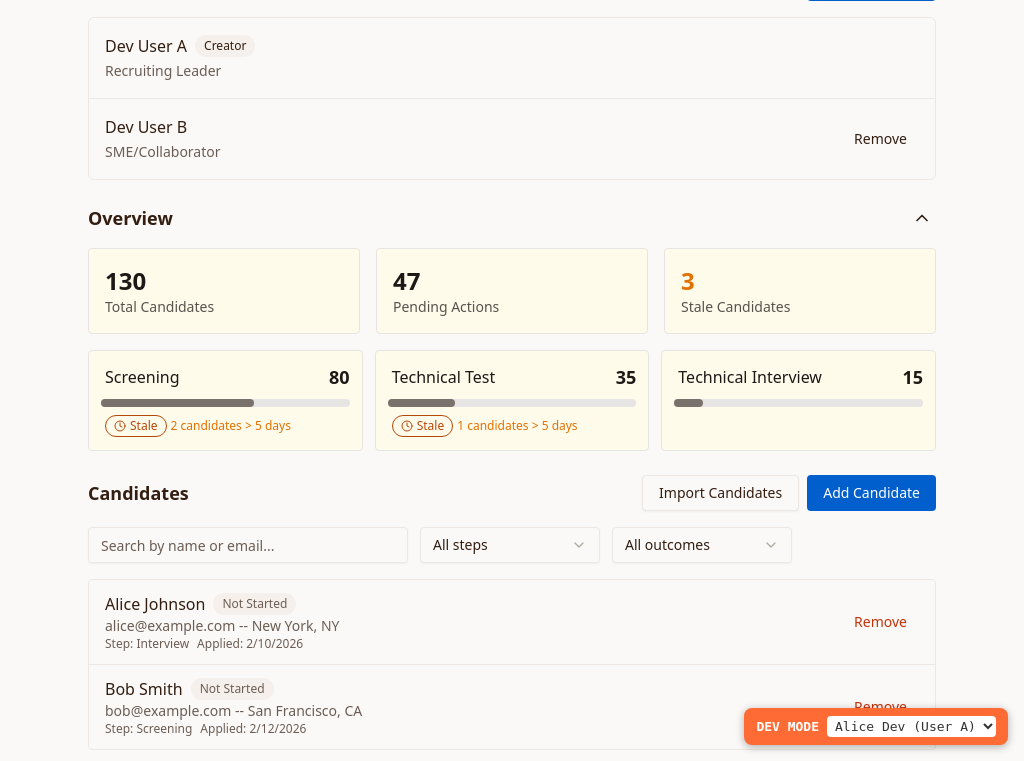
Test: RecruitmentPage › should filter candidate list when step is clicked in overview
(page scrolled)
Expected: the element named "Total Candidates: 130" is shown, [88,248,360,334]
// Click step in overview
Click the button with aria-label "filter by step: screening". click: (142, 377)
box: [101,365,184,389]
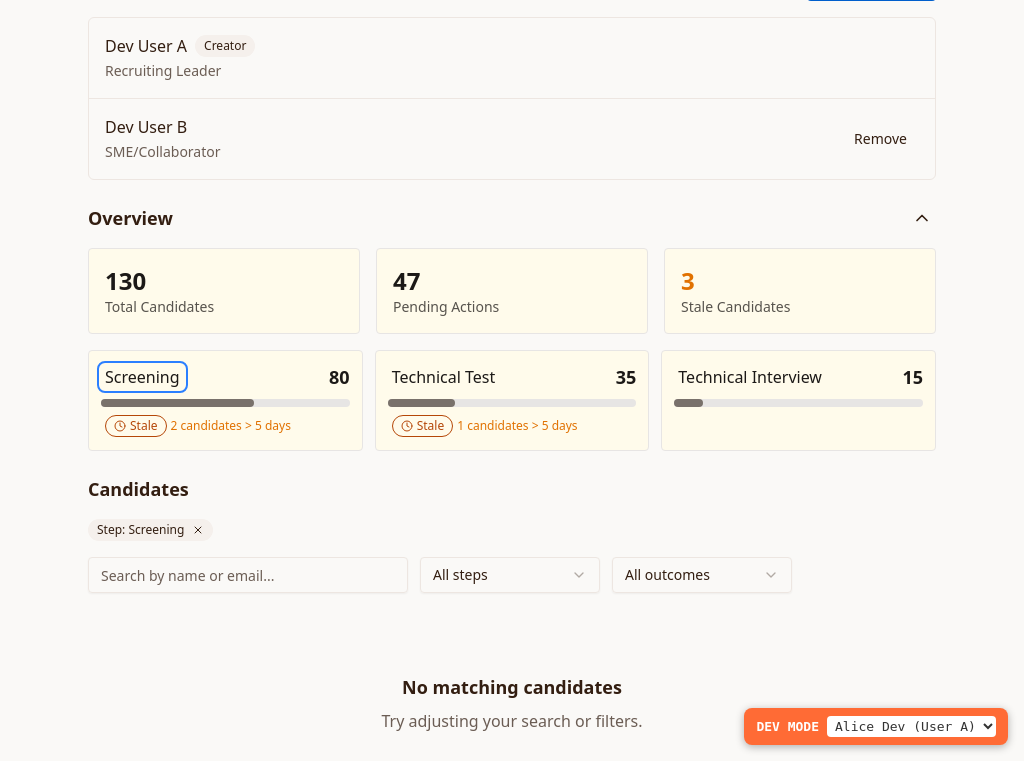
Result: the button named "Clear overview filter" is shown at [192,524,204,536]
